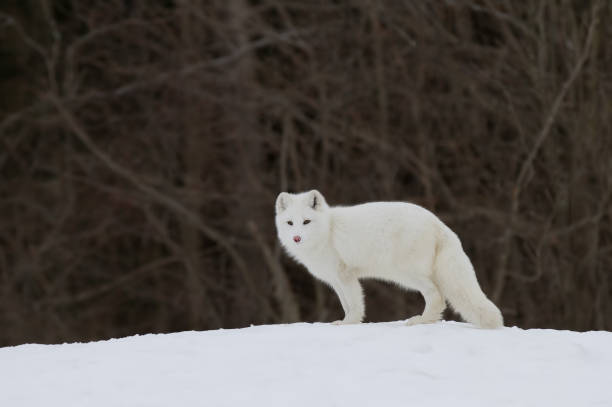arcticfox: (273, 196, 331, 259)
